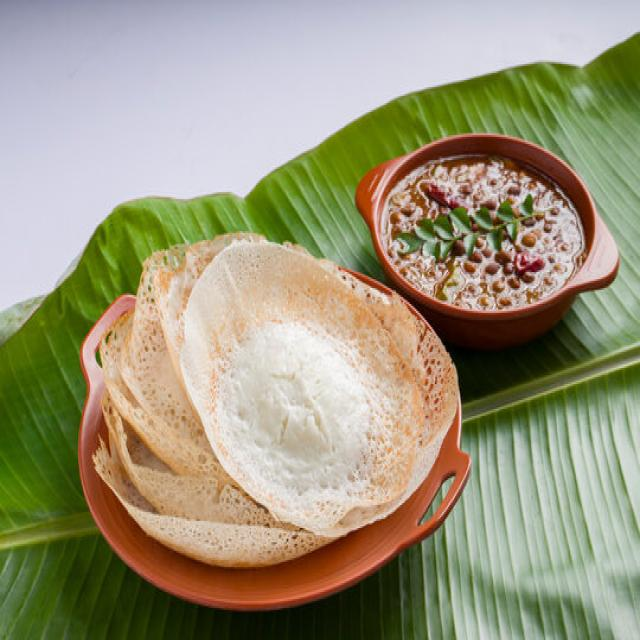AAPAM: (92, 233, 457, 565)
CURRY: (379, 158, 584, 309)
